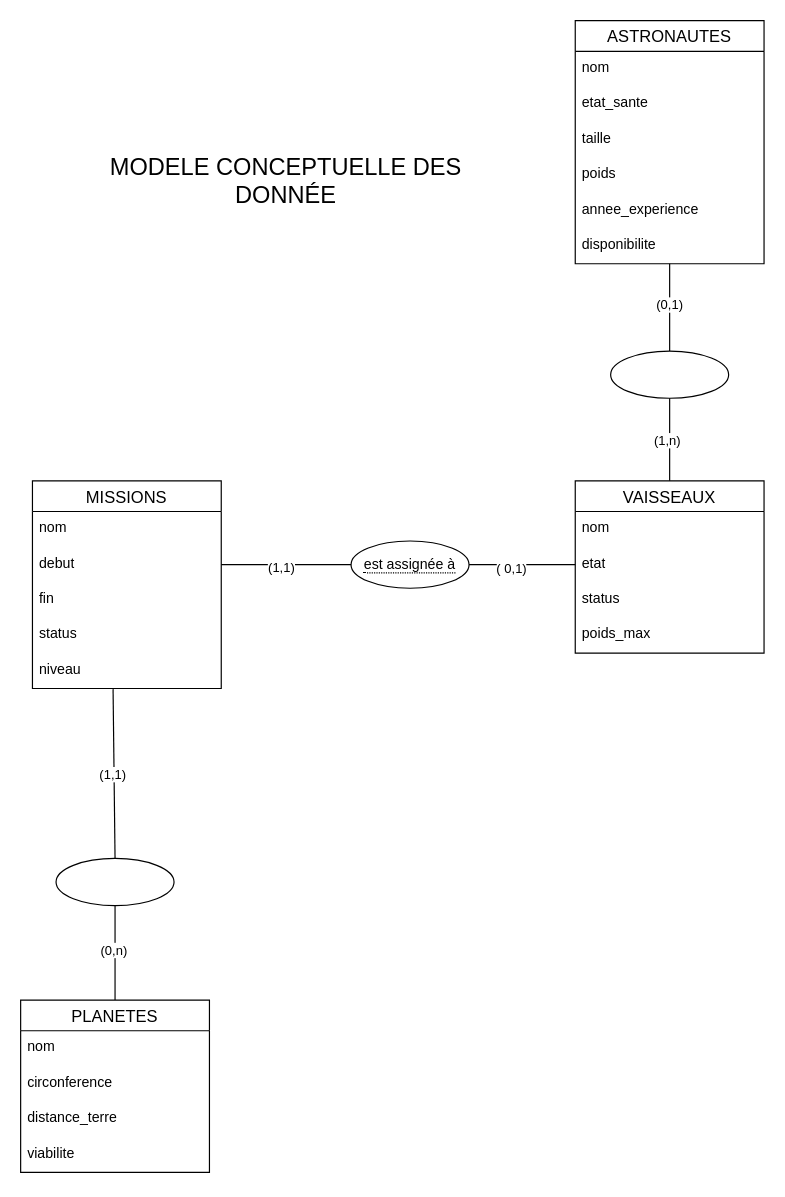
This 785x1197 diagram has some shape labels left out. The centre of each missing label's shape, as x and y in pixels:
est associé à: point 114,881
est en charge du: point 669,374
